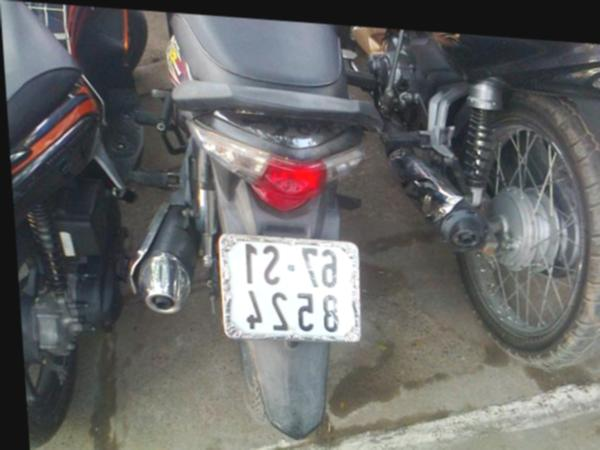License_Plate: (223, 235, 358, 341)
